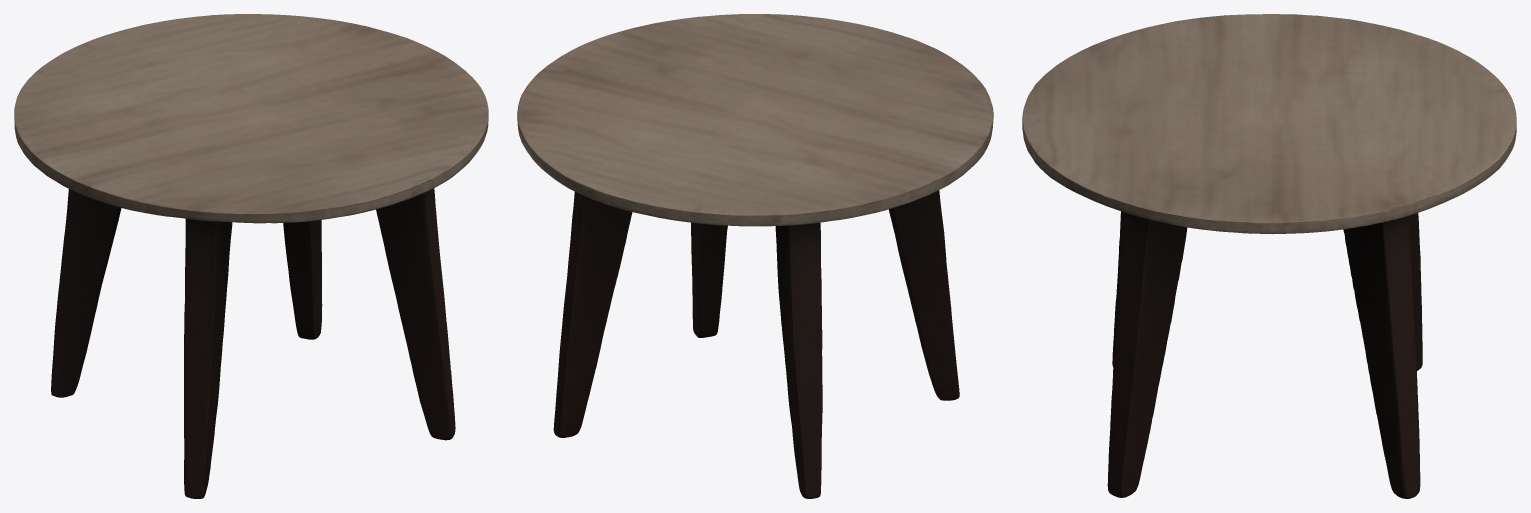
Rendered from 15532_mw_br3082b_coffe_table_round.glb.
3 views of the same model, side by side, from view 1: azimuth 30°, elevation 25°; view 2: azimuth 150°, elevation 25°; view 3: azimuth 270°, elevation 25° (orthographic). The views are drawn at different scales.
Parts seen in each view (by area): view 1: world; view 2: world; view 3: world.
Part boxes in pixels (bbox=[...]): world: bbox=[14, 14, 488, 498]; world: bbox=[517, 14, 993, 498]; world: bbox=[1022, 14, 1516, 498].
Bounding box in the file's own units: 0.9993 × 0.7022 × 0.9987.
Materials: 1 (1 with a texture image).
